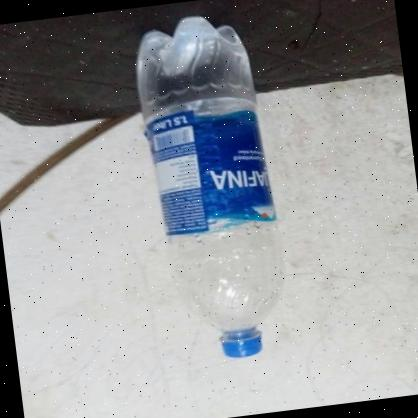bottle: (120, 1, 314, 384)
cap: (208, 320, 272, 360)
label: (130, 86, 290, 248)
